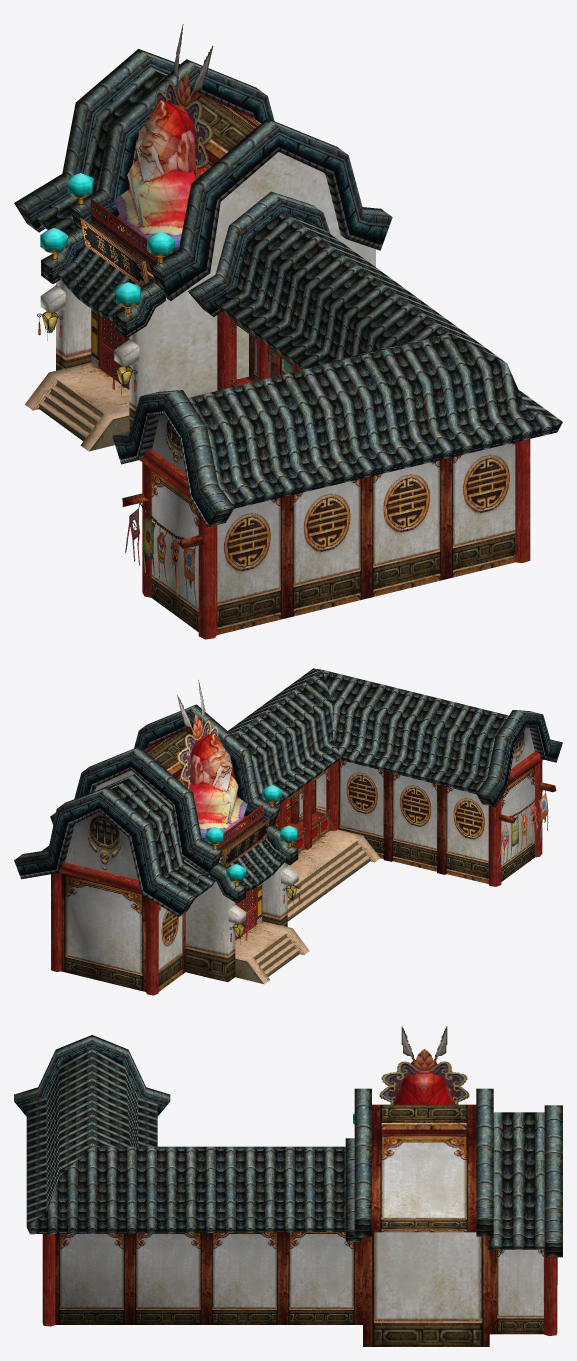
Rendered from cj_acce.glb.
The picture shows the model from 3 angles, top to bottom: view 1: azimuth 30°, elevation 25°; view 2: azimuth 150°, elevation 25°; view 3: azimuth 270°, elevation 25°; orthographic projection. The views are drawn at different scales.
Parts seen in each view (by area): view 1: CJ_acce_roof, CJ_acce_wall_2, CJ_acce_wall, CJ_acce_winlight, CJ_acce_wall_1, CJ_acce_kite; view 2: CJ_acce_roof, CJ_acce_wall_2, CJ_acce_wall, CJ_acce_winlight, CJ_acce_wall_1, CJ_acce_kite; view 3: CJ_acce_roof, CJ_acce_wall_2, CJ_acce_wall, CJ_acce_wall_1, CJ_acce_winlight.
Part boxes in pixels (bbox=[...]): CJ_acce_roof: bbox=[14, 49, 562, 527]; CJ_acce_wall_2: bbox=[25, 227, 515, 634]; CJ_acce_wall: bbox=[52, 198, 530, 639]; CJ_acce_winlight: bbox=[40, 99, 205, 307]; CJ_acce_wall_1: bbox=[37, 24, 292, 395]; CJ_acce_kite: bbox=[125, 502, 198, 606]; CJ_acce_roof: bbox=[14, 668, 562, 916]; CJ_acce_wall_2: bbox=[56, 760, 556, 991]; CJ_acce_wall: bbox=[51, 727, 543, 995]; CJ_acce_winlight: bbox=[182, 732, 297, 882]; CJ_acce_wall_1: bbox=[177, 680, 331, 944]; CJ_acce_kite: bbox=[497, 789, 548, 866]; CJ_acce_roof: bbox=[14, 1035, 562, 1257]; CJ_acce_wall_2: bbox=[55, 1232, 543, 1346]; CJ_acce_wall: bbox=[39, 1098, 557, 1335]; CJ_acce_wall_1: bbox=[379, 1026, 469, 1104]; CJ_acce_winlight: bbox=[353, 1060, 454, 1124].
Size of the model in its own units: 23.85 by 19.56 by 35.93.
6 materials, 6 textured.
